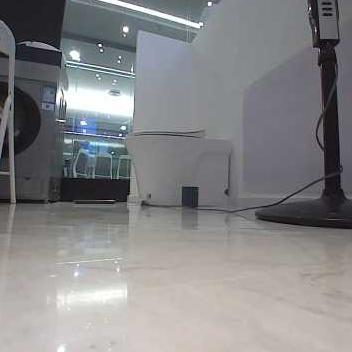chair_base: (255, 182, 350, 229)
toilet: (122, 128, 229, 206)
washing_machine1: (0, 57, 69, 205)
wire: (196, 165, 344, 214), (314, 55, 339, 152)
